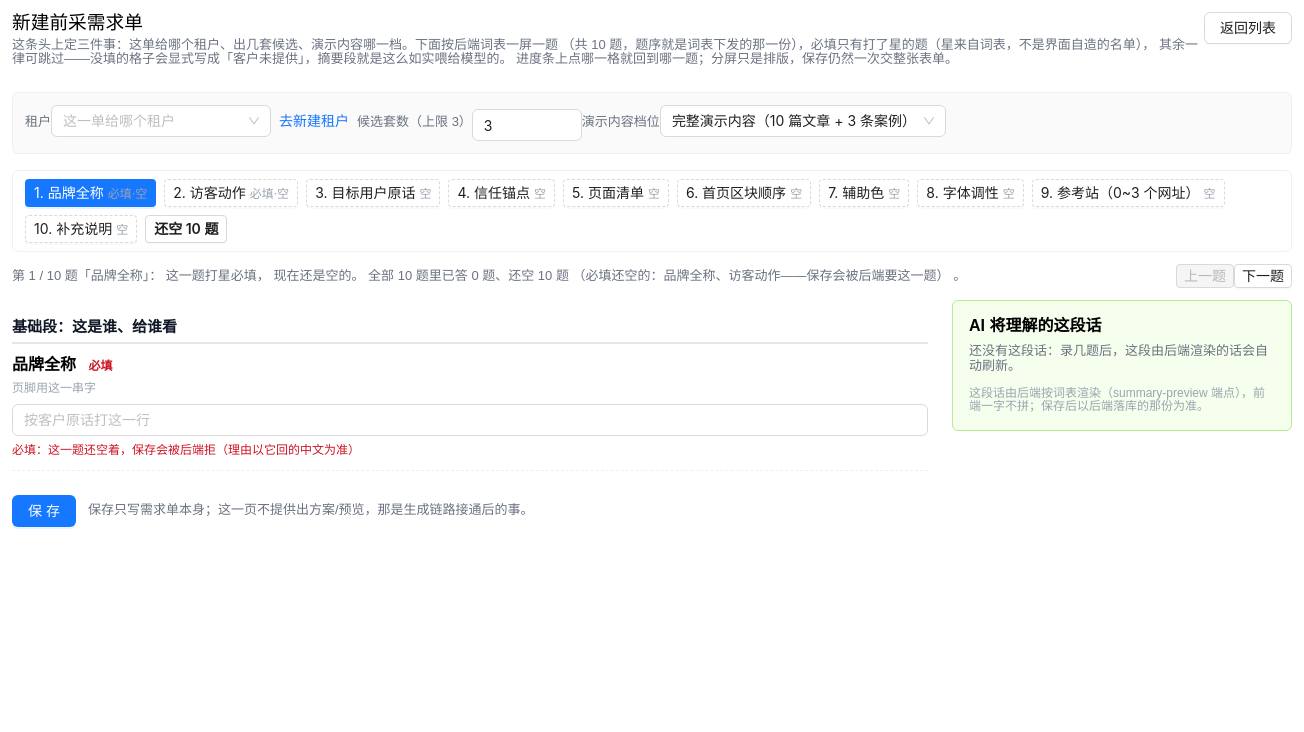
进度条、回改与「还空哪几题」 › 上一题/下一题真的翻屏，尽头多一屏核对；核对屏点名还空的题，「回到这一题」把人带回那一题
Expected: the button "上一题" is disabled, [1176,264,1234,288]
Click the button "下一题". click: coordinates (1263, 276)
box: [1234,264,1292,288]
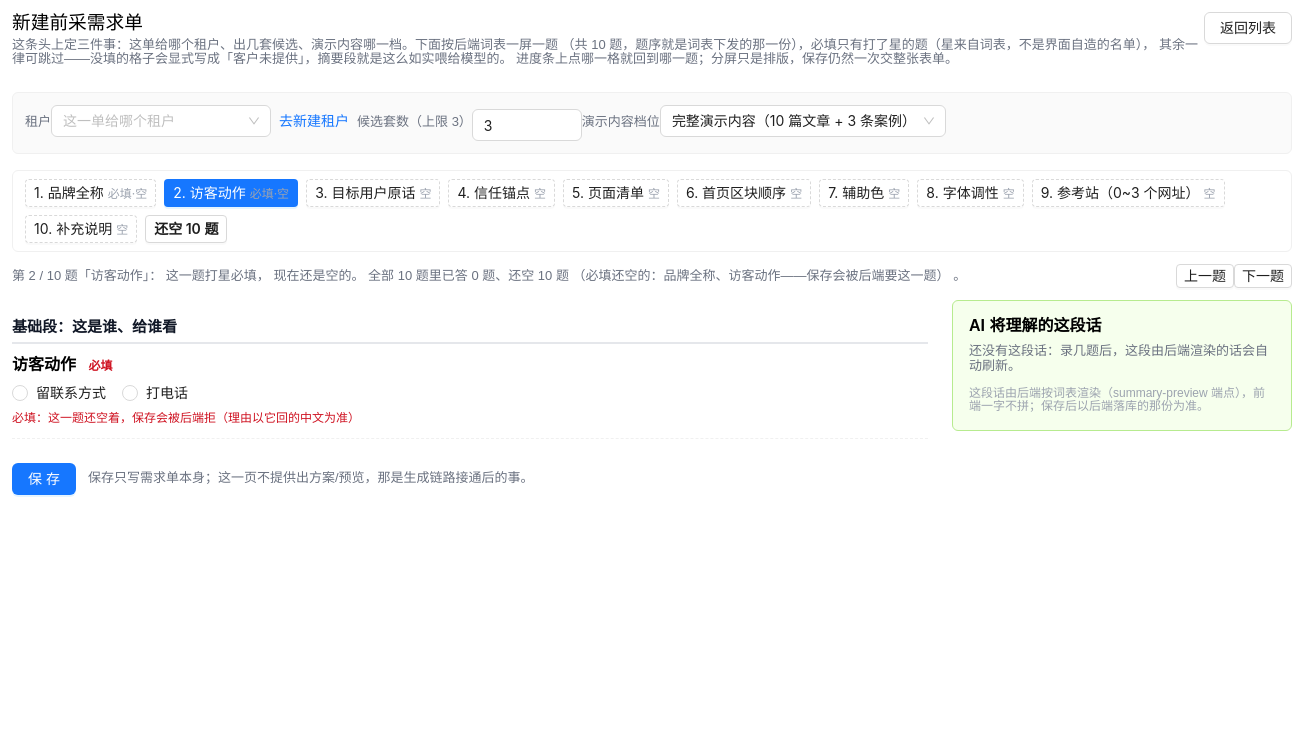
Now the element with class "brief-intake__stepper" shows "第 2 / 10 题「访客动作」", box [12,268,572,283]
Click the button with class "brief-intake__rail-review". click: coordinates (186, 229)
box: [145,215,227,243]
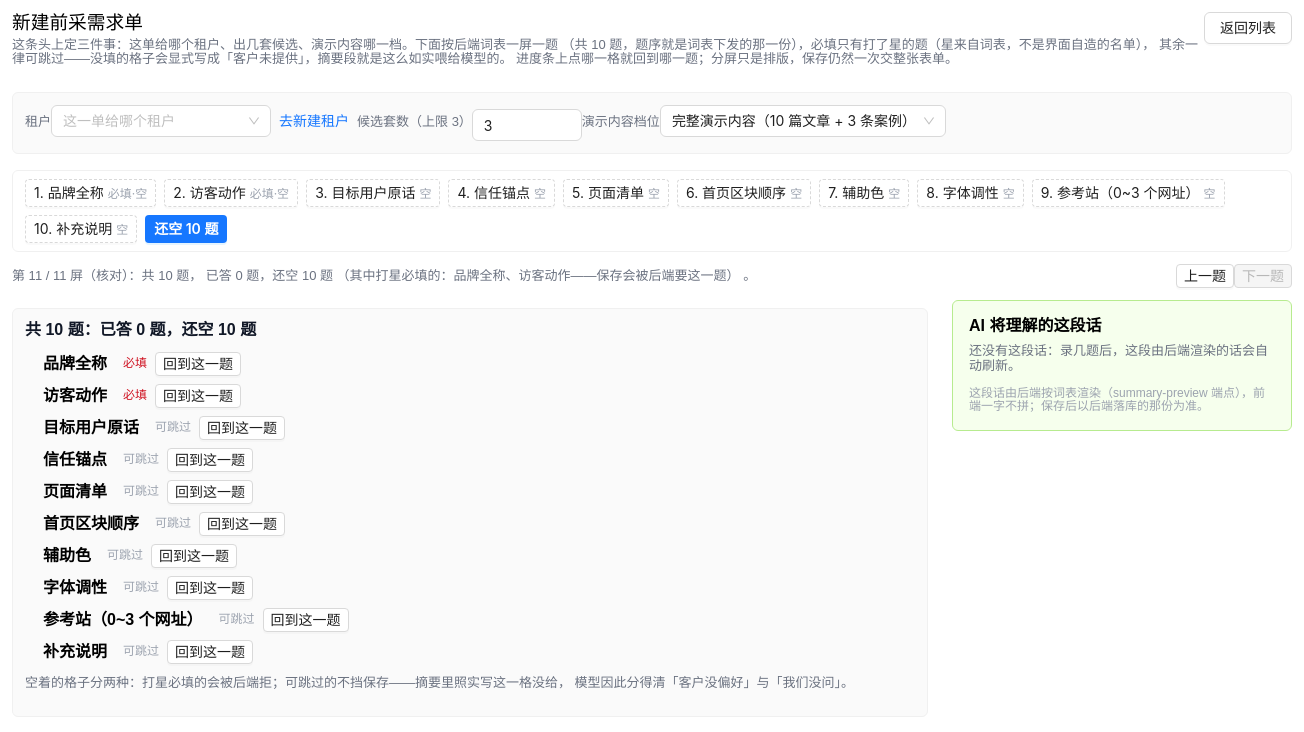
Now the element with class "brief-intake__review" is shown, box [12,308,928,717]
Now the element with class "brief-intake__review" shows "共 10 题：已答 0 题，还空 10 题", box [25,321,256,338]
Now the number of list items with class "brief-intake__review-row" is 10
Click the 7th button "回到这一题". click: coordinates (194, 556)
box: [151,544,237,568]
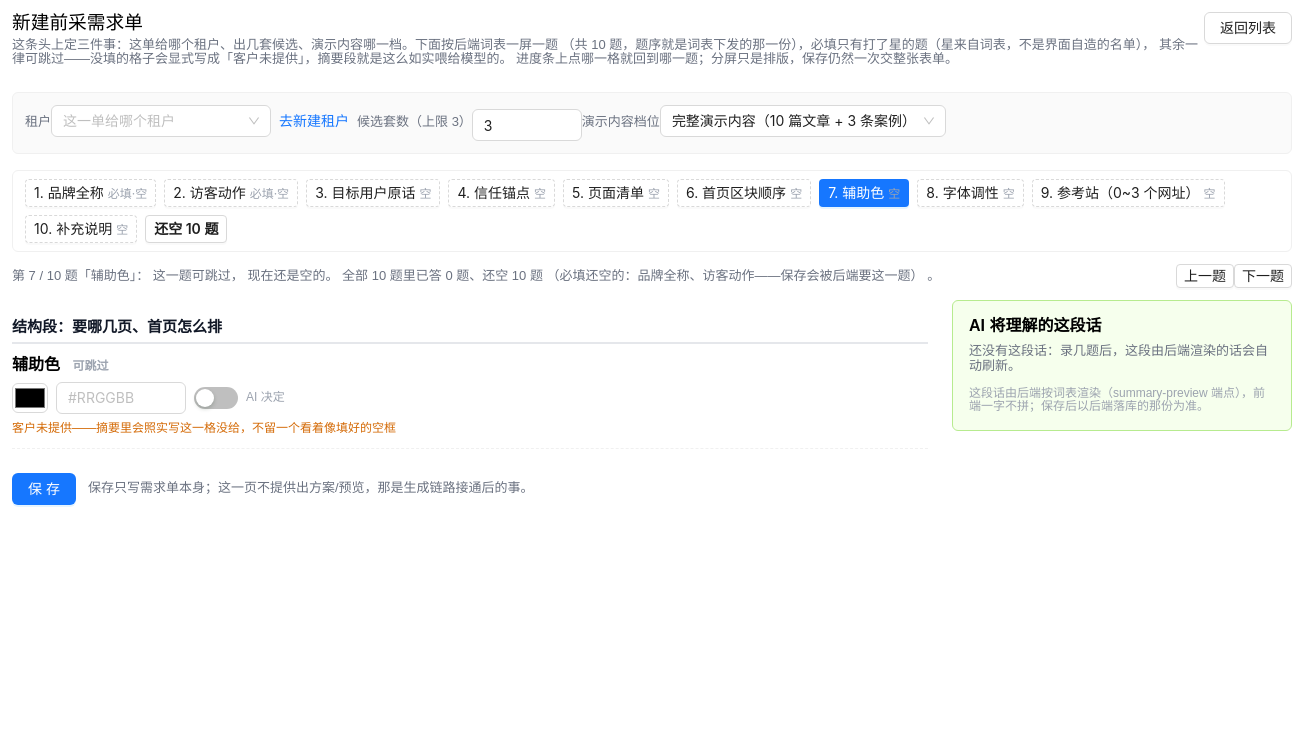
Now the element with class "brief-intake__stepper" shows "第 7 / 10 题「辅助色」", box [12,268,546,283]
